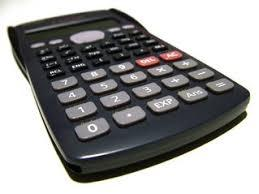Calculator: (0, 5, 258, 183)
